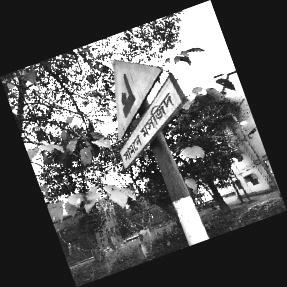Mosque in front: (113, 58, 188, 169)
